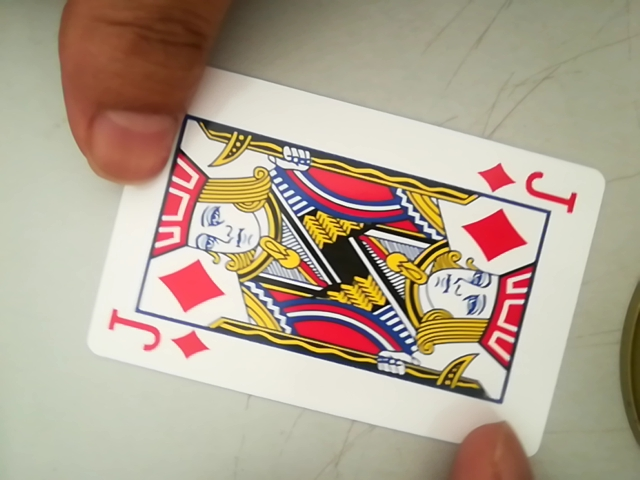fk j: (100, 315, 220, 364), (479, 161, 583, 206)
